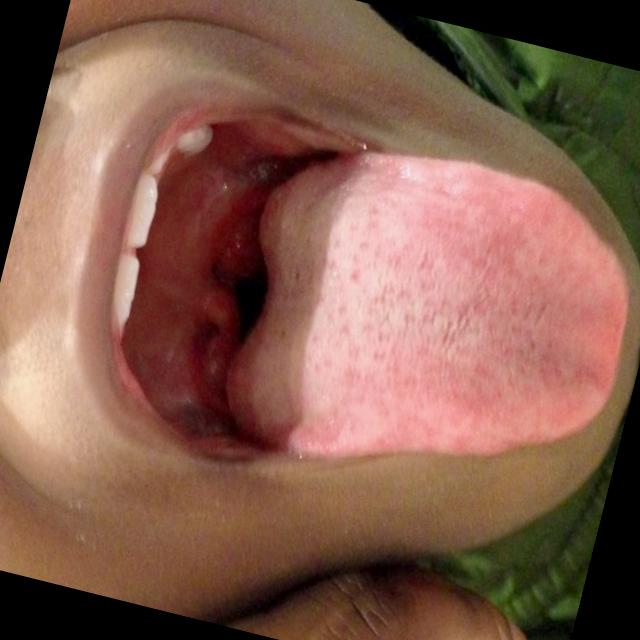No Cancer: (237, 133, 640, 471)
